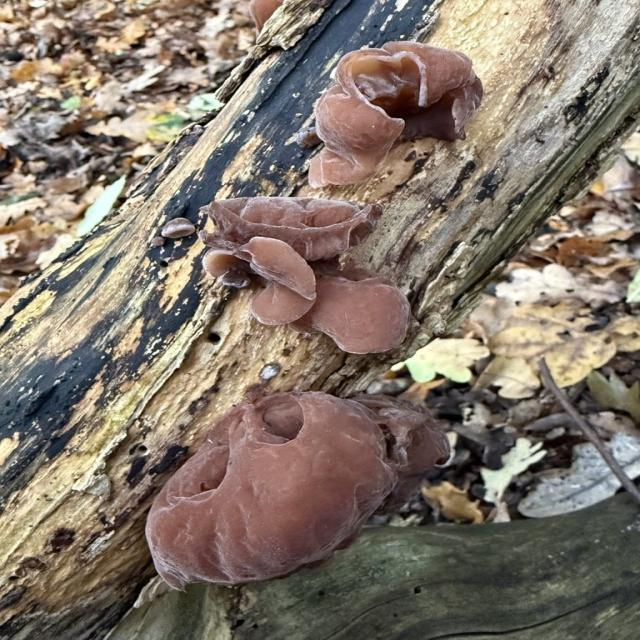Matang: (143, 385, 457, 595), (192, 188, 428, 367), (308, 39, 491, 187)
